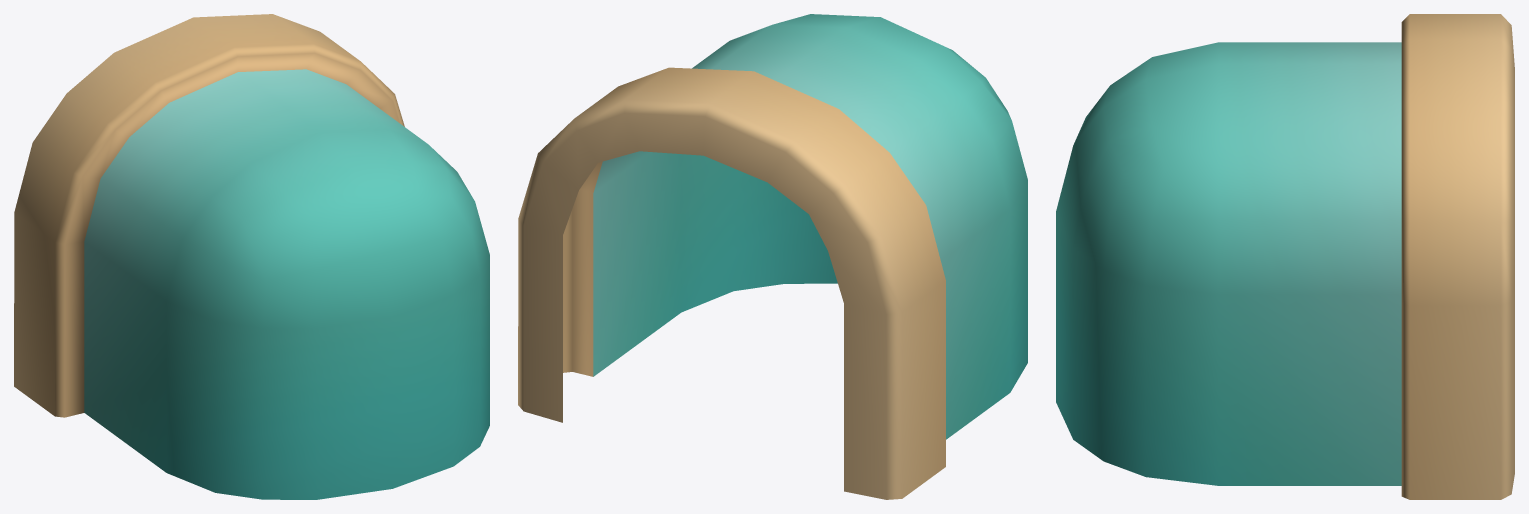
Rendered from RollStack.fbx.
3 views of the same model, side by side, from view 1: azimuth 30°, elevation 25°; view 2: azimuth 150°, elevation 25°; view 3: azimuth 270°, elevation 25° (orthographic). The views are drawn at different scales.
Visible parts, largest first — view 1: RollStack; view 2: RollStack; view 3: RollStack.
Boxes of the visible parts, <box> form: RollStack: <box>14,14,489,499</box>; RollStack: <box>518,14,1027,499</box>; RollStack: <box>1056,14,1514,499</box>.
Size of the model in its own units: 82.61 by 71.7 by 82.06.
